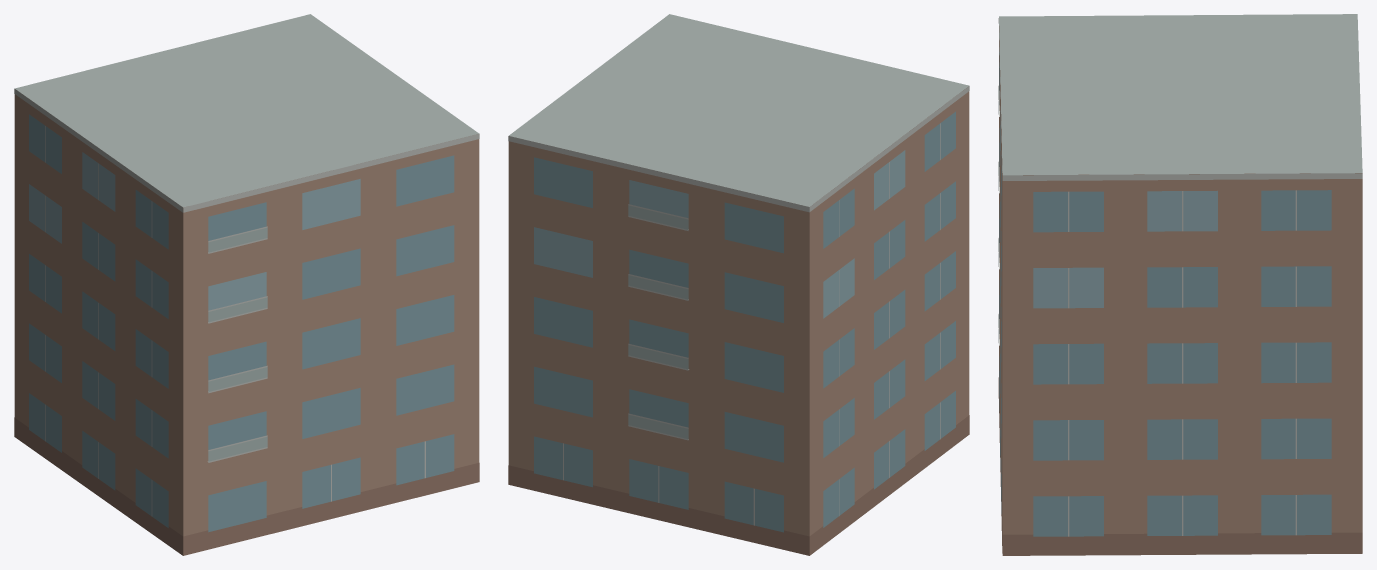
The model's file is survey-upis-33046641.glb.
The picture shows the model from 3 angles, left to right: view 1: azimuth 30°, elevation 25°; view 2: azimuth 150°, elevation 25°; view 3: azimuth 270°, elevation 25°; orthographic projection. The views are drawn at different scales.
Visible parts, largest first — view 1: survey-upis-33046641.tmp; view 2: survey-upis-33046641.tmp; view 3: survey-upis-33046641.tmp.
Boxes of the visible parts, x1,y1,x2,y2 form: survey-upis-33046641.tmp: (14, 14, 479, 555); survey-upis-33046641.tmp: (508, 14, 969, 555); survey-upis-33046641.tmp: (998, 14, 1362, 555).
Bounding box in the file's own units: 14.45 × 15.9 × 13.8.
